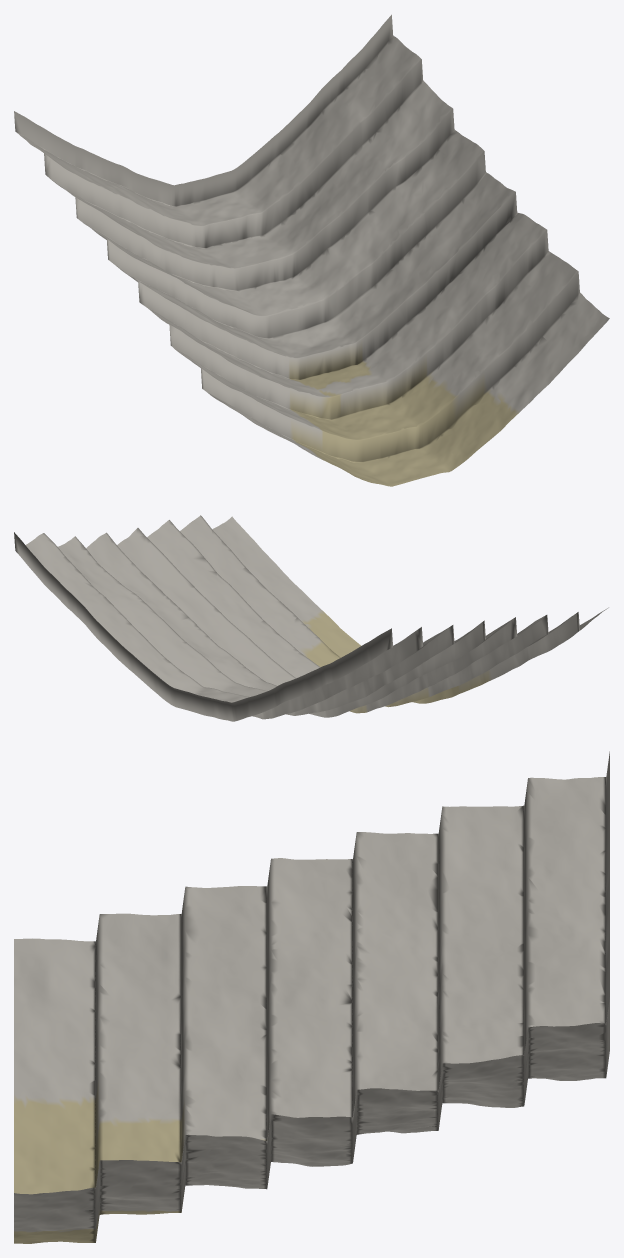
File: hybrid.glb
The picture shows the model from 3 angles, top to bottom: view 1: azimuth 30°, elevation 25°; view 2: azimuth 150°, elevation 25°; view 3: azimuth 270°, elevation 25°; orthographic projection. The views are drawn at different scales.
Visible parts, largest first — view 1: Terrain_Surface; view 2: Terrain_Surface; view 3: Terrain_Surface.
Part boxes in pixels (x1=…): Terrain_Surface: x1=14, y1=14, x2=609, y2=486; Terrain_Surface: x1=14, y1=515, x2=608, y2=721; Terrain_Surface: x1=14, y1=751, x2=609, y2=1243.
Size of the model in its own units: 480 by 315 by 480.
